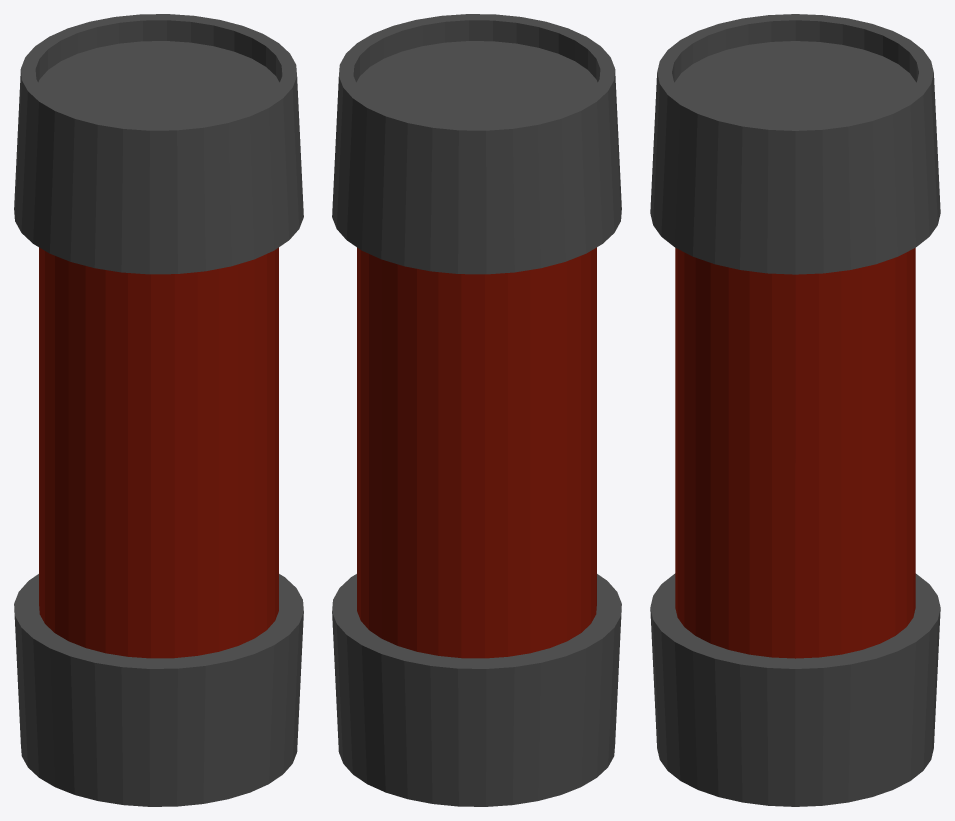
The model's file is Battery.fbx.
3 views of the same model, side by side, from view 1: azimuth 30°, elevation 25°; view 2: azimuth 150°, elevation 25°; view 3: azimuth 270°, elevation 25° (orthographic).
Parts seen in each view (by area): view 1: Cylinder; view 2: Cylinder; view 3: Cylinder.
Part boxes in pixels (<box>): Cylinder: <box>14,14,303,806</box>; Cylinder: <box>332,14,621,806</box>; Cylinder: <box>650,14,940,806</box>.
Size of the model in its own units: 242 by 621 by 242.
